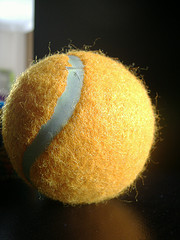tennis ball: (3, 50, 159, 208)
